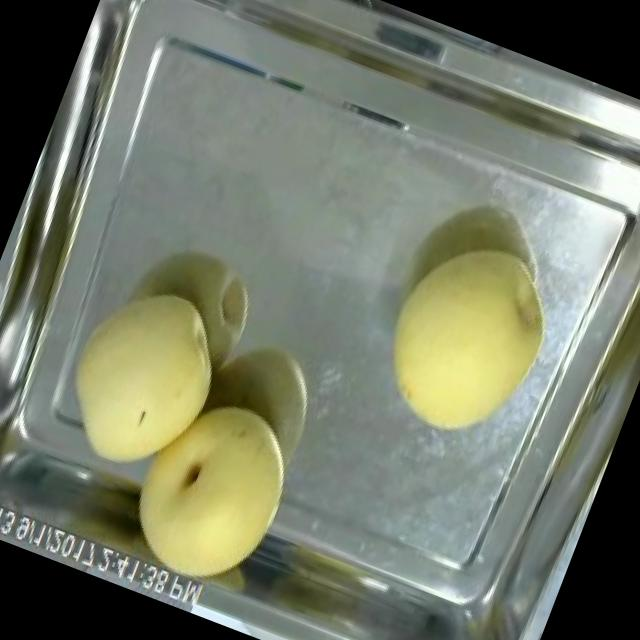Fruit: (351, 214, 582, 467), (28, 260, 250, 508), (101, 372, 321, 612)
